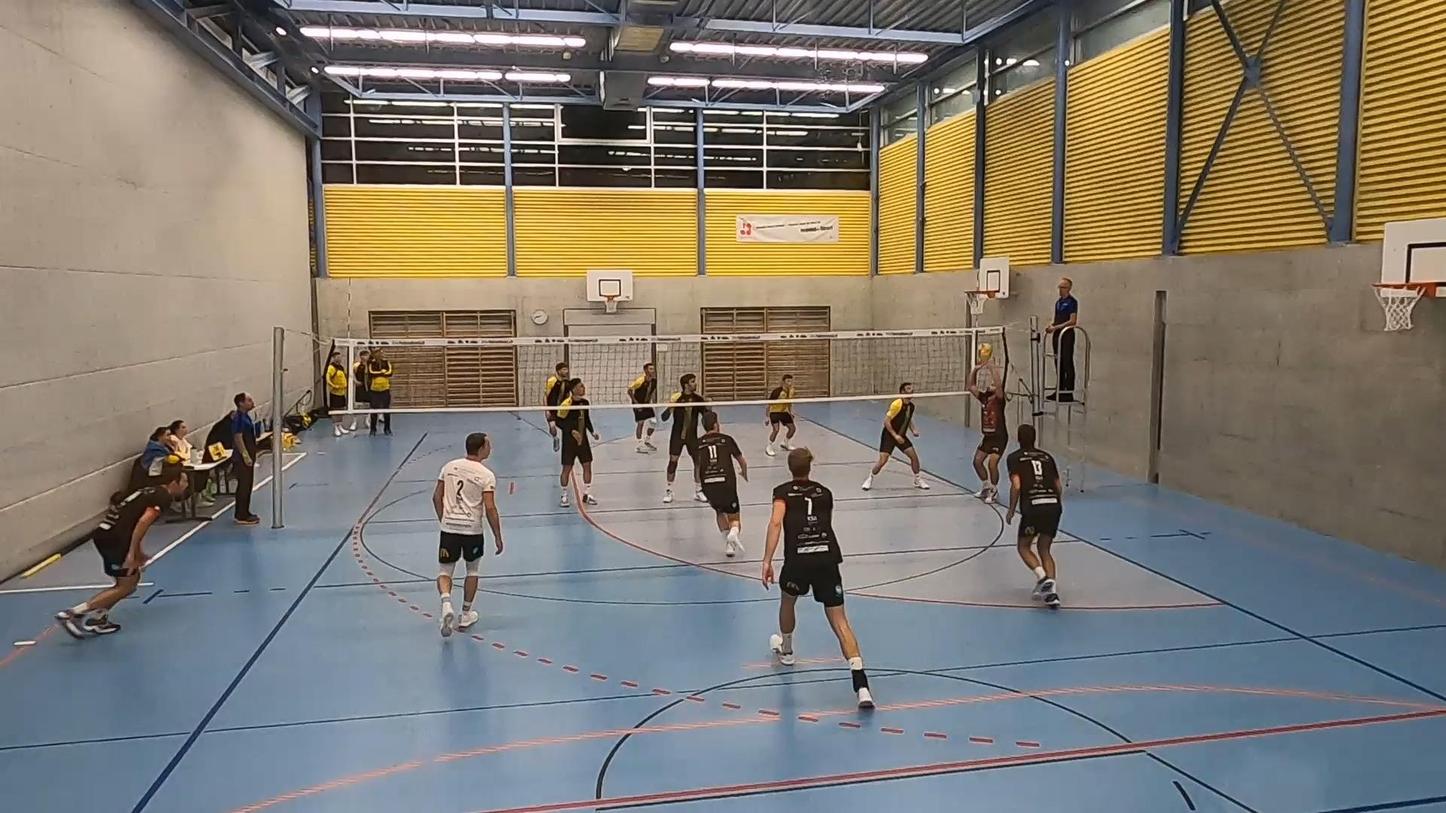alzata: (966, 350, 1010, 496)
